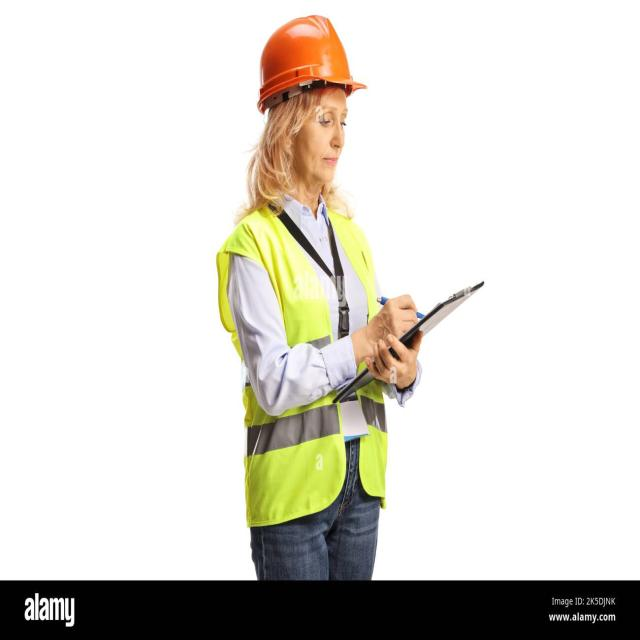helmet: (258, 7, 372, 114)
no-goggles: (300, 103, 352, 134)
vest: (220, 183, 397, 517)
